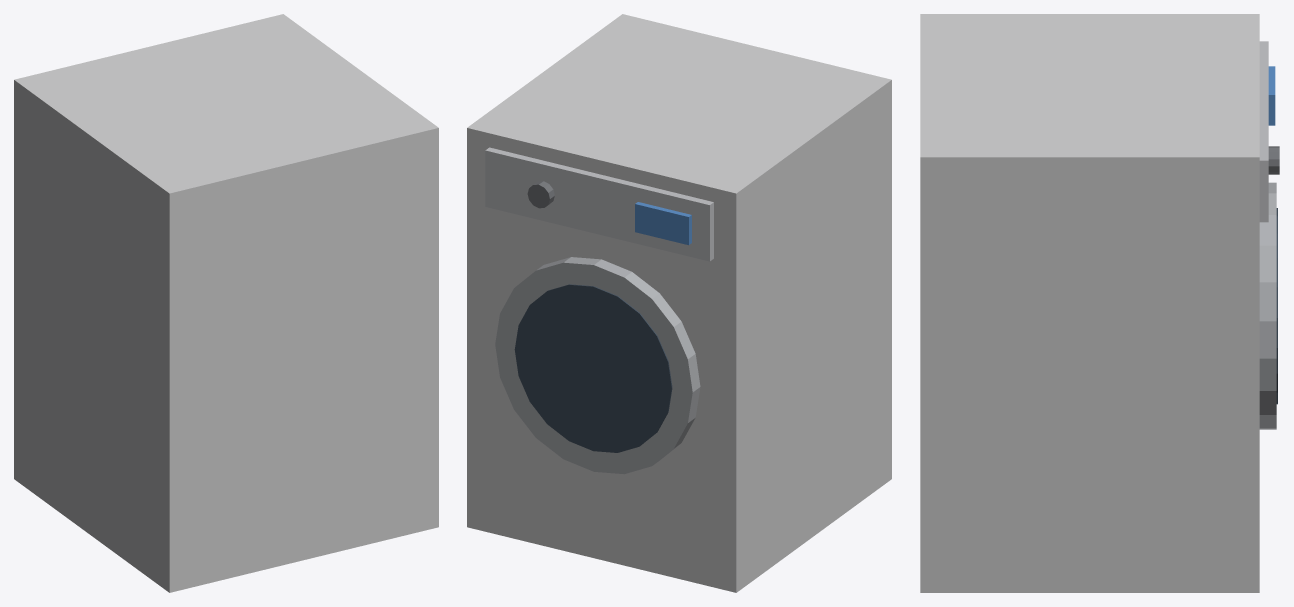
File: eld_lava_roupa.glb
3 views of the same model, side by side, from view 1: azimuth 30°, elevation 25°; view 2: azimuth 150°, elevation 25°; view 3: azimuth 270°, elevation 25° (orthographic). The views are drawn at different scales.
Parts seen in each view (by area): view 1: ELD_LAVA_ROUPA_v01; view 2: ELD_LAVA_ROUPA_v01; view 3: ELD_LAVA_ROUPA_v01.
Part boxes in pixels (<box>): ELD_LAVA_ROUPA_v01: <box>14,14,438,592</box>; ELD_LAVA_ROUPA_v01: <box>467,14,891,592</box>; ELD_LAVA_ROUPA_v01: <box>920,14,1279,592</box>.
Size of the model in its own units: 0.6 by 0.85 by 0.635.
